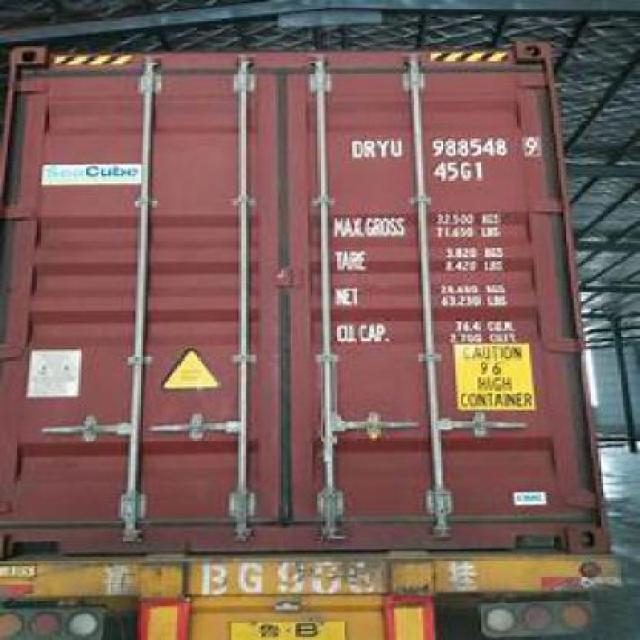ISO: (431, 161, 484, 181)
container_number: (348, 134, 539, 157)
